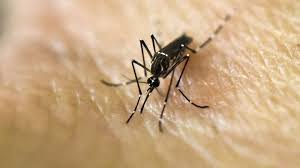mosquito: (91, 13, 233, 135)
